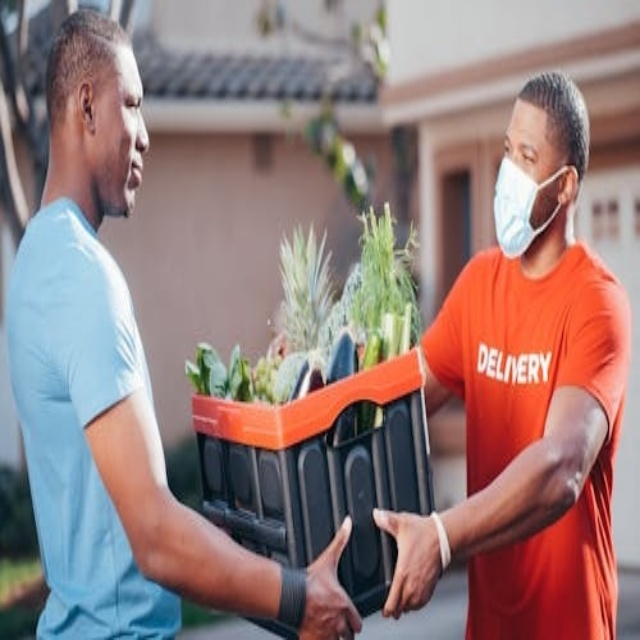Mascara: (493, 155, 568, 258)
Sin_gafas: (499, 125, 553, 175), (108, 86, 145, 123)
Sin_guantes: (288, 516, 366, 639), (371, 505, 448, 619)
Sin_mascara: (113, 150, 145, 207)
